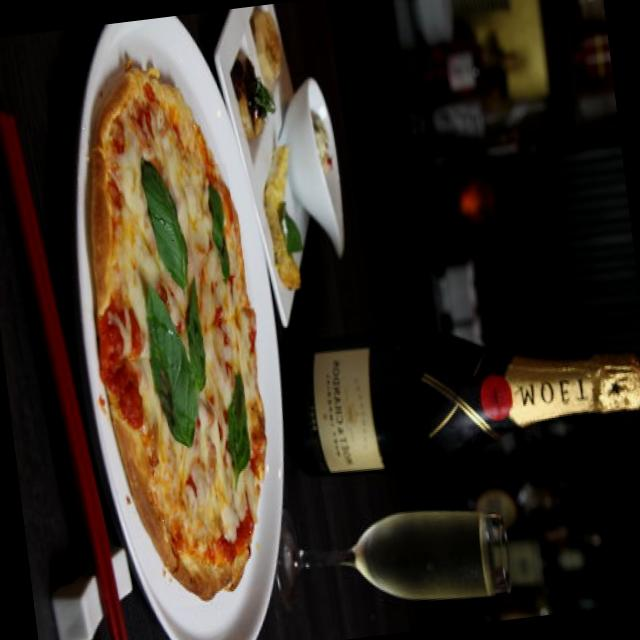basil: (135, 282, 208, 449), (130, 150, 200, 288), (190, 162, 238, 280), (210, 373, 259, 484), (178, 274, 212, 398)
pizza: (89, 63, 265, 600)
